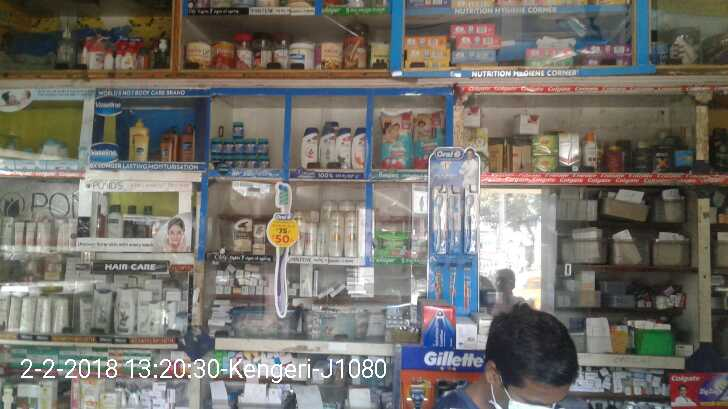beauty: (230, 214, 251, 254), (343, 211, 360, 260), (300, 123, 316, 171), (335, 125, 352, 169), (353, 123, 368, 171), (319, 129, 335, 172), (328, 211, 343, 253), (302, 217, 317, 254), (250, 221, 265, 255)
pharmacy: (378, 108, 411, 176), (414, 110, 449, 171), (462, 189, 479, 258), (428, 187, 444, 254), (372, 229, 411, 256), (446, 189, 459, 257), (208, 134, 223, 155), (228, 120, 245, 138), (255, 137, 271, 155), (213, 155, 235, 168), (233, 136, 245, 154), (223, 135, 233, 156), (242, 138, 255, 154), (256, 157, 269, 172), (245, 153, 256, 169), (233, 158, 245, 170)
